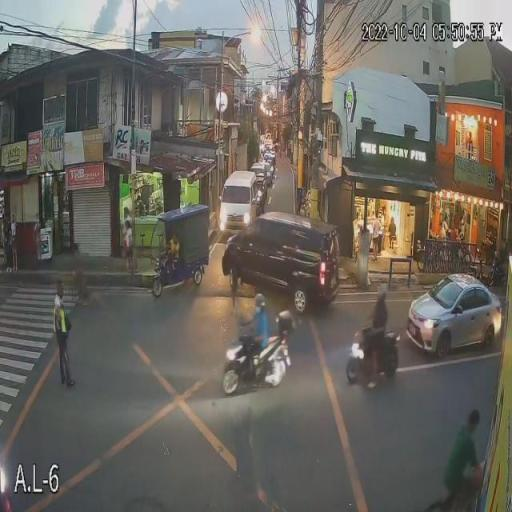helmet: (252, 292, 269, 316), (375, 281, 388, 299)
motorcycle: (218, 339, 294, 396), (343, 327, 402, 383)
rider: (368, 298, 388, 390), (242, 315, 268, 378)
